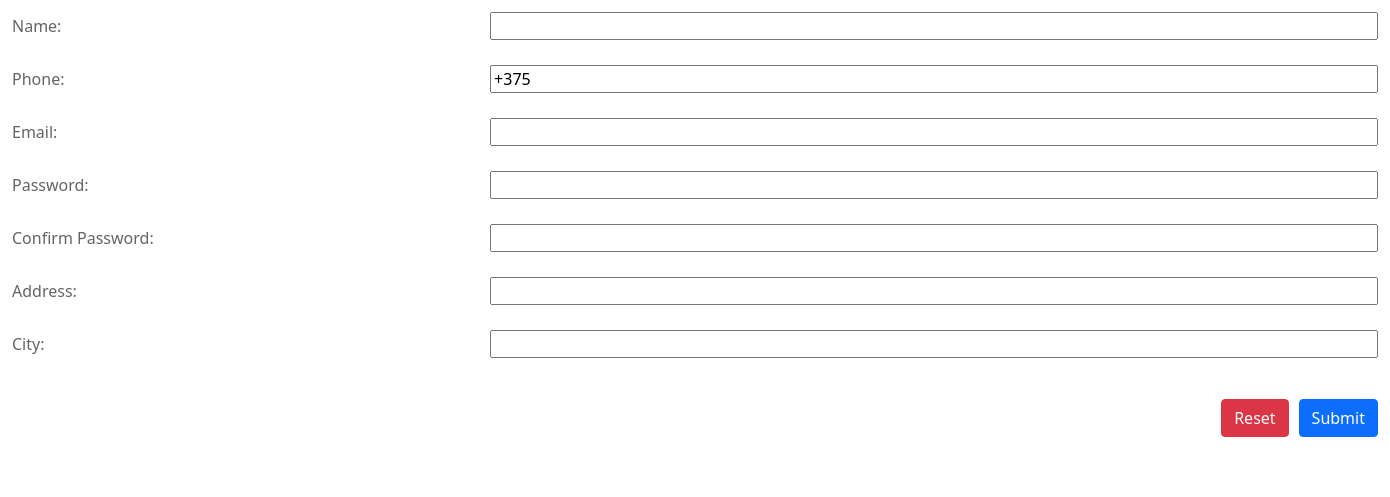
it: Test FormSignUp Component › should be autocomplete
The width and height of the screenshot is (1390, 497).
In the field with test id "city": point(934, 344) [490,330,1378,358], type "г"
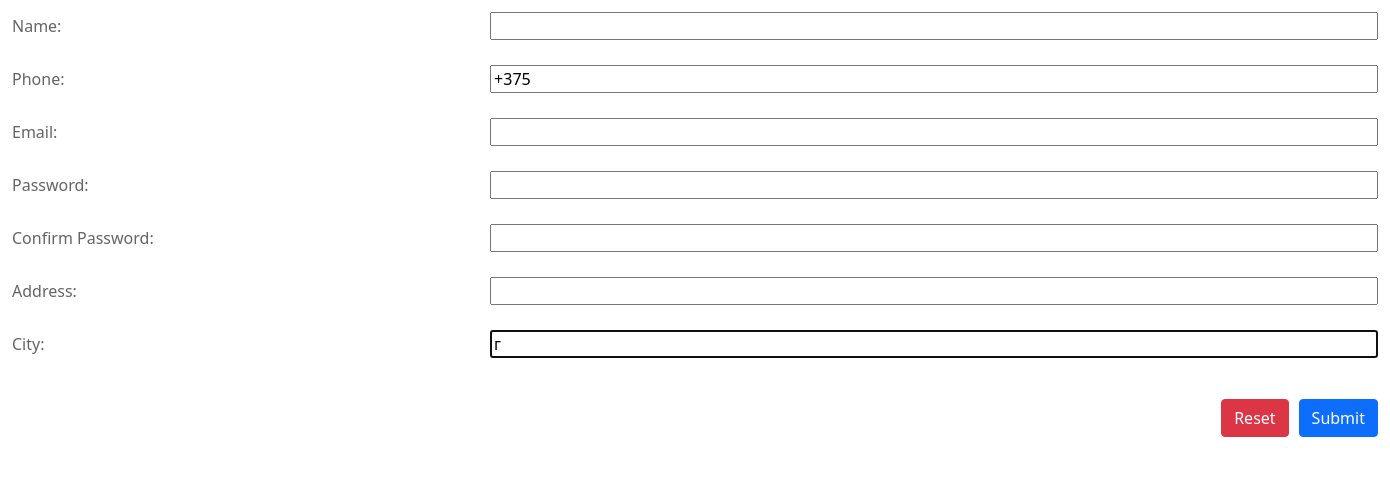
Replace the text in the field with test id "city" with "гр": point(934, 344) [490,330,1378,358]
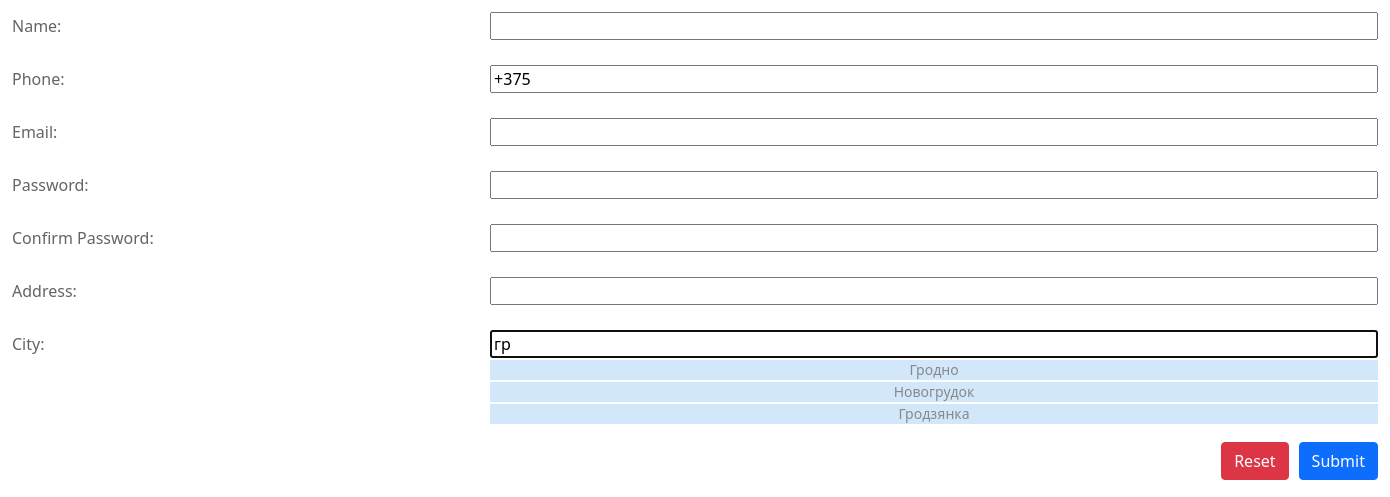
Click the button with test id "variantCity" showing "Гродно": point(934, 370) [490,360,1378,380]
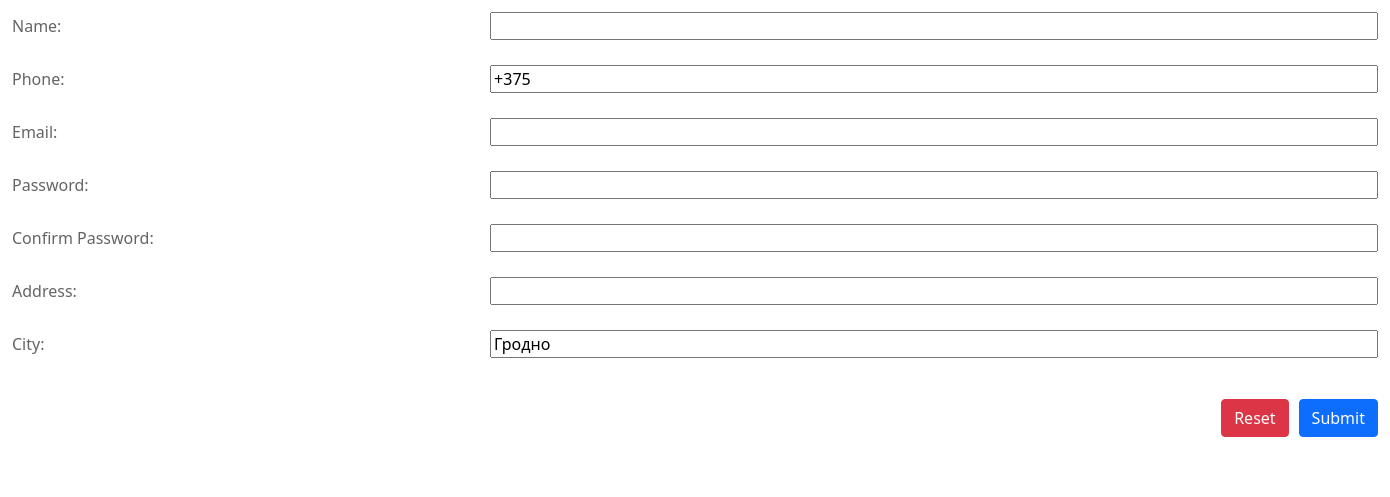
Now the field with test id "city" holds "Гродно", box [490,330,1378,358]
